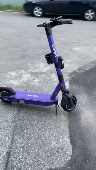beam: (1, 18, 78, 116)
